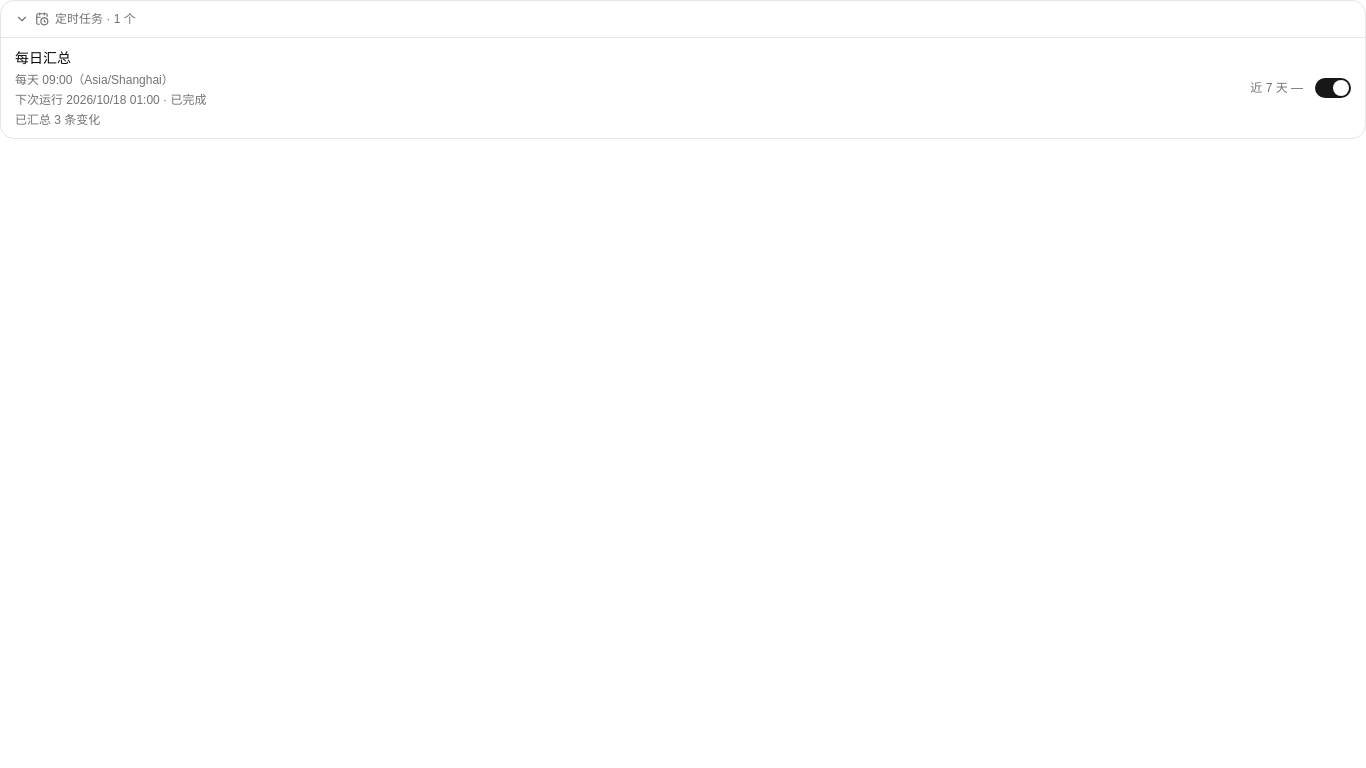
Scenario: BotScheduleSection › 点击行打开详情：指令全文与运行记录
This screenshot has width=1366, height=768.
Click the text "每日汇总": (43, 58) [15,48,71,68]
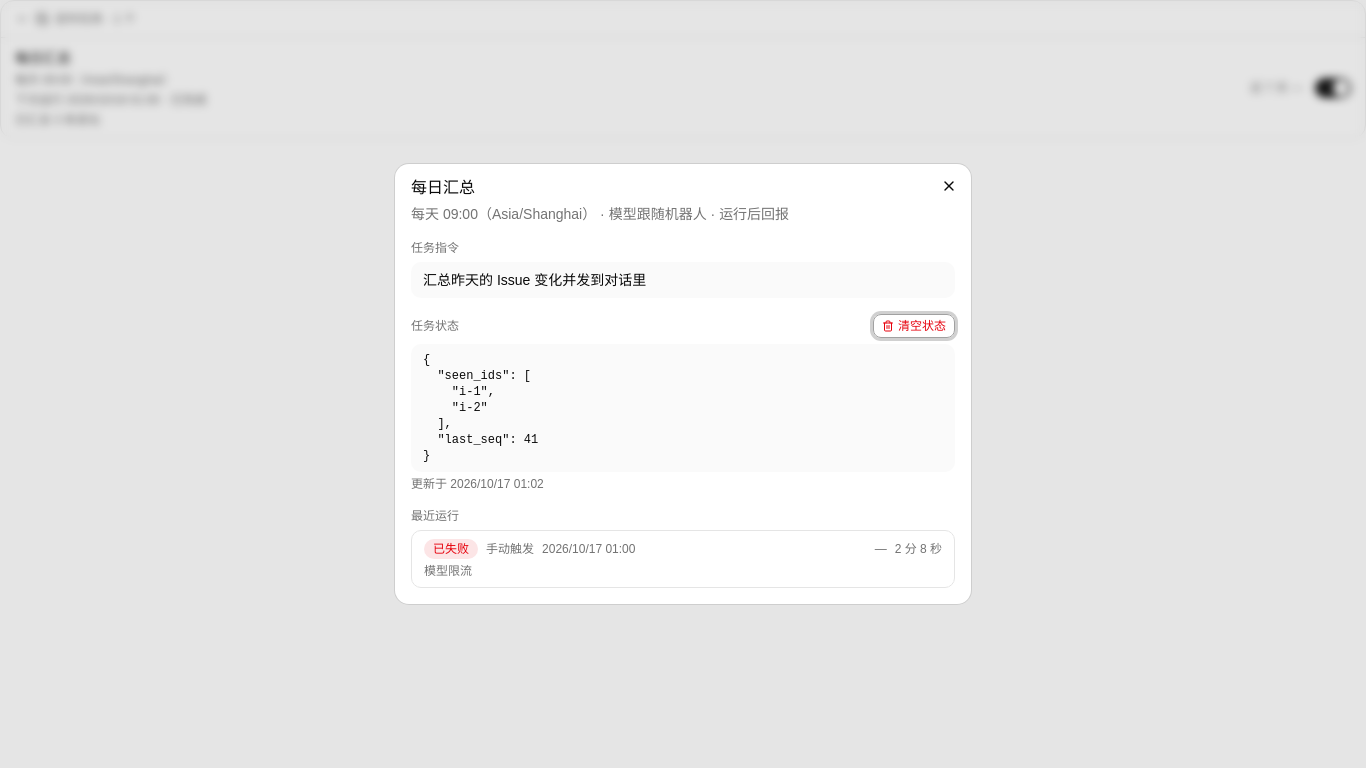
Expected: the dialog shows "每天 09:00（Asia/Shanghai）", [411,206,596,222]
Expected: the dialog shows "模型跟随机器人", [609,206,707,222]
Expected: the dialog shows "运行后回报", [719,206,789,222]
